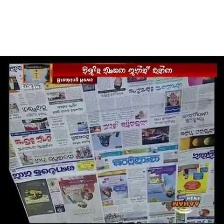news_paper: (7, 61, 213, 223)
